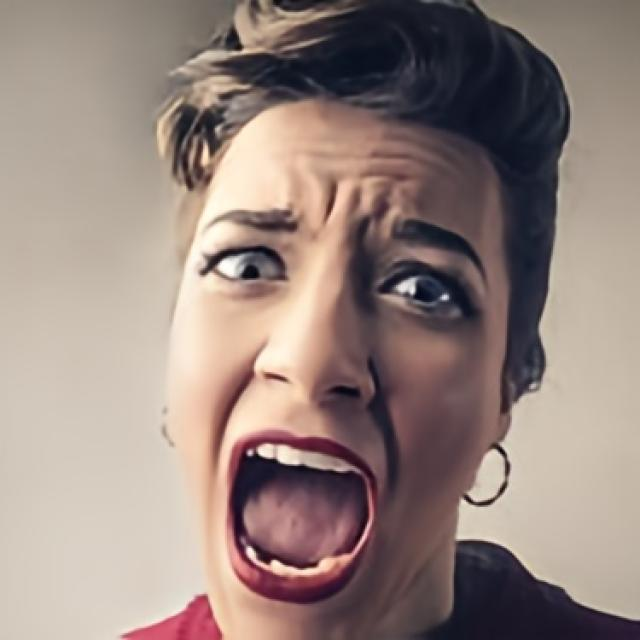Fear: (167, 59, 509, 622)
